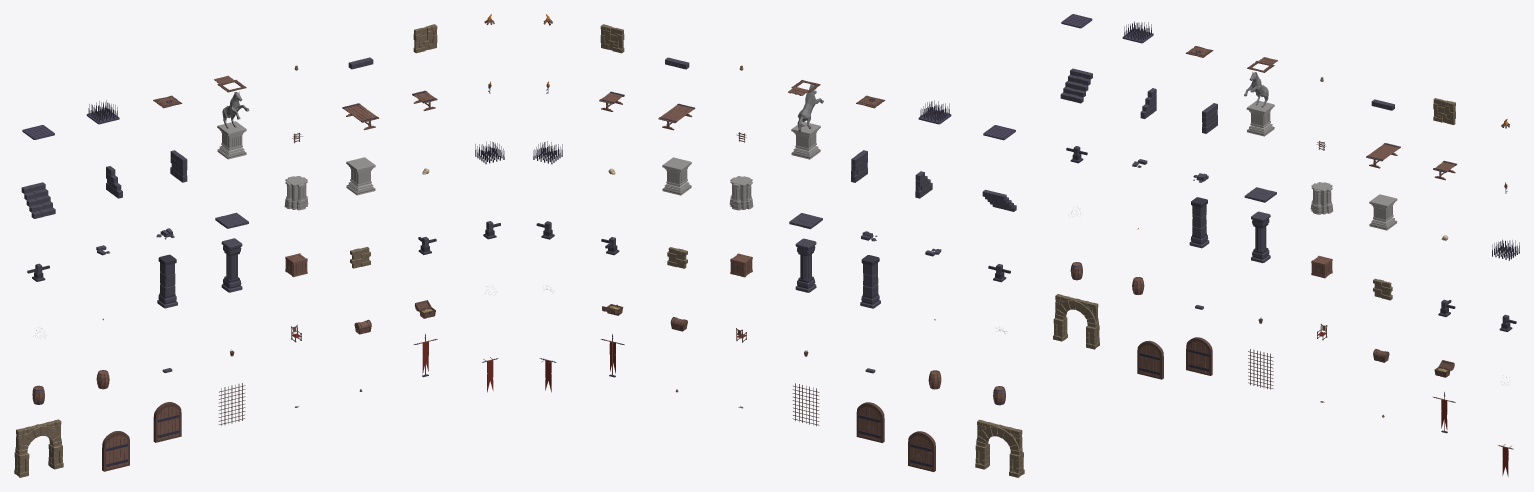
File: dungeon.glb
The picture shows the model from 3 angles, left to right: view 1: azimuth 30°, elevation 25°; view 2: azimuth 150°, elevation 25°; view 3: azimuth 330°, elevation 25°; orthographic projection. The views are drawn at different scales.
Visible parts, largest first — view 1: Arch, Statue_Horse, Arch_Door_bottompivot, Arch_Door, Column, Stairs_Modular, Pedestal2, Column2, Pedestal, Wall_Modular, Arch_bars, Trap_spikes; view 2: Arch, Statue_Horse, Arch_Door_bottompivot, Arch_Door, Column, Pedestal2, Column2, Pedestal, Wall_Modular, Trap_spikes; view 3: Arch, Statue_Horse, Arch_Door, Arch_Door_bottompivot, Column, Stairs_Modular, Column2, Pedestal2, Pedestal, Wall_Modular, Arch_bars.
Boxes of the visible parts, box(x1,y1,x2,y2) form: Arch: box(14, 419, 63, 477); Statue_Horse: box(217, 91, 249, 159); Arch_Door_bottompivot: box(153, 402, 181, 442); Arch_Door: box(102, 431, 129, 471); Column: box(157, 254, 177, 308); Stairs_Modular: box(21, 182, 55, 218); Pedestal2: box(346, 157, 375, 195); Column2: box(221, 238, 242, 292); Pedestal: box(284, 176, 308, 210); Wall_Modular: box(413, 24, 437, 53); Arch_bars: box(218, 383, 245, 425); Trap_spikes: box(86, 100, 119, 124); Arch: box(975, 419, 1024, 477); Statue_Horse: box(791, 84, 823, 159); Arch_Door_bottompivot: box(856, 402, 884, 442); Arch_Door: box(908, 431, 935, 471); Column: box(860, 255, 880, 308); Pedestal2: box(662, 157, 691, 195); Column2: box(795, 238, 816, 292); Pedestal: box(729, 176, 753, 210); Wall_Modular: box(600, 24, 624, 53); Trap_spikes: box(918, 100, 951, 124); Arch: box(1053, 294, 1099, 349); Statue_Horse: box(1244, 72, 1274, 136); Arch_Door: box(1137, 340, 1163, 379); Arch_Door_bottompivot: box(1186, 337, 1212, 375); Column: box(1189, 197, 1209, 248); Stairs_Modular: box(1060, 68, 1092, 103); Column2: box(1251, 211, 1270, 263); Pedestal2: box(1369, 194, 1397, 230); Pedestal: box(1310, 182, 1333, 214); Wall_Modular: box(1433, 98, 1455, 124); Arch_bars: box(1248, 349, 1273, 389).
Bounding box in the file's own units: 45.05 × 33.96 × 3.9.
